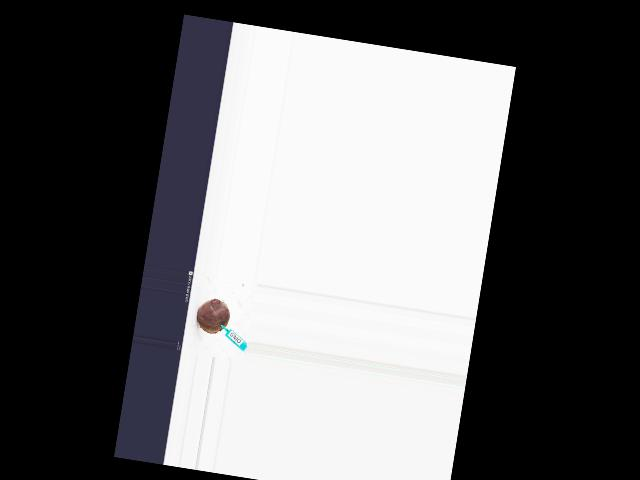beet: (194, 296, 232, 335)
